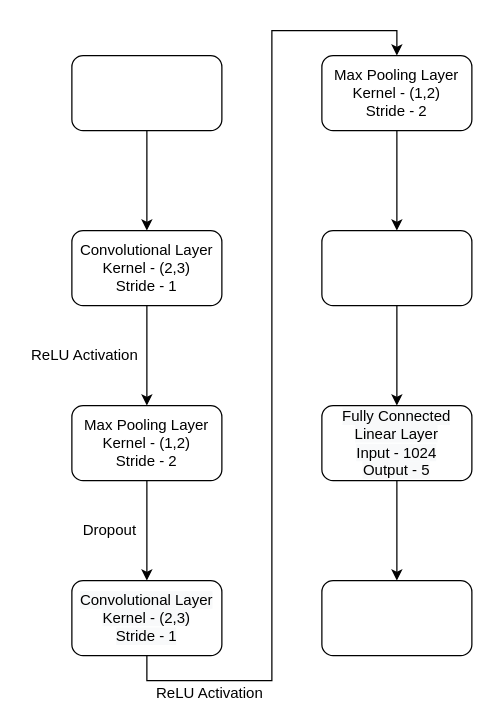
Some shapes in this 494 by 728 pixel diagram are drawn without their labels. The centre of each missing label's shape, as x and y in pixels:
Emotion Probability Distribution: point (396, 617)
Flatten Layer: point (146, 92)
Fully Connected Linear Layer Input - 10416 Output - 1024: point (396, 267)
